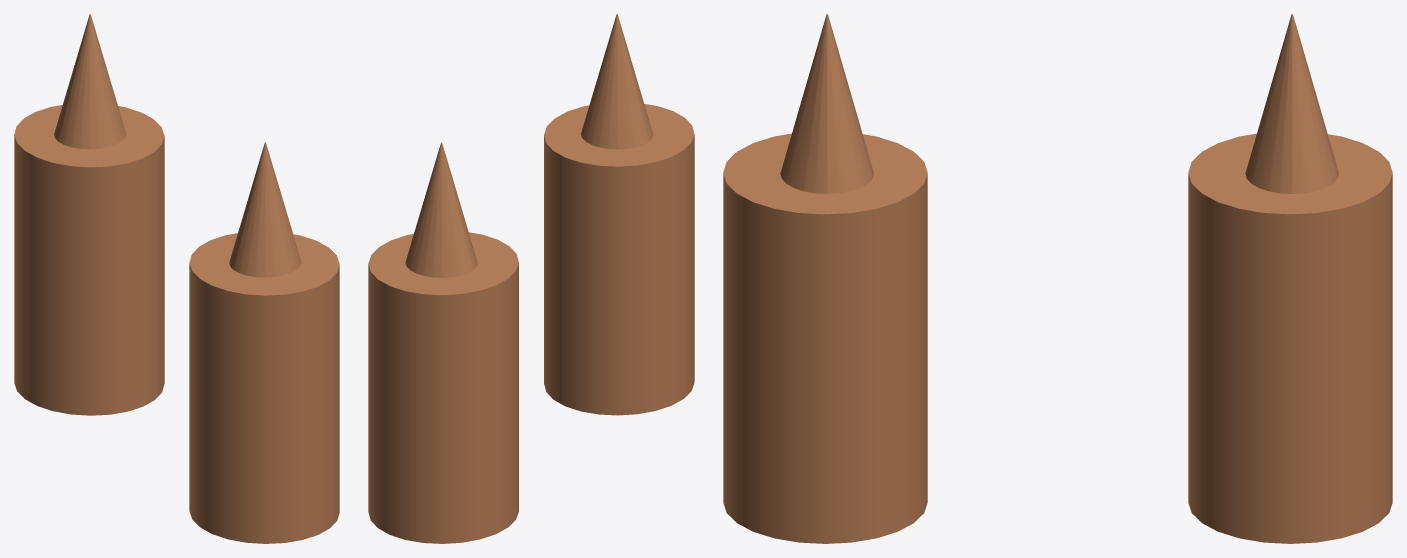
Rendered from Candles.fbx.
The picture shows the model from 3 angles, left to right: view 1: azimuth 30°, elevation 25°; view 2: azimuth 150°, elevation 25°; view 3: azimuth 270°, elevation 25°; orthographic projection. The views are drawn at different scales.
Visible parts, largest first — view 1: cylinder (×2), cone (×2); view 2: cylinder (×2), cone (×2); view 3: cylinder (×2), cone (×2).
Boxes of the visible parts, bbox=[...] form: cylinder (×2): bbox=[14, 105, 339, 543]; cone (×2): bbox=[54, 14, 301, 277]; cylinder (×2): bbox=[368, 104, 694, 543]; cone (×2): bbox=[405, 14, 653, 277]; cylinder (×2): bbox=[723, 133, 1392, 543]; cone (×2): bbox=[780, 14, 1338, 193].
Bounding box in the file's own units: 2.13 × 5.8 × 7.2.
